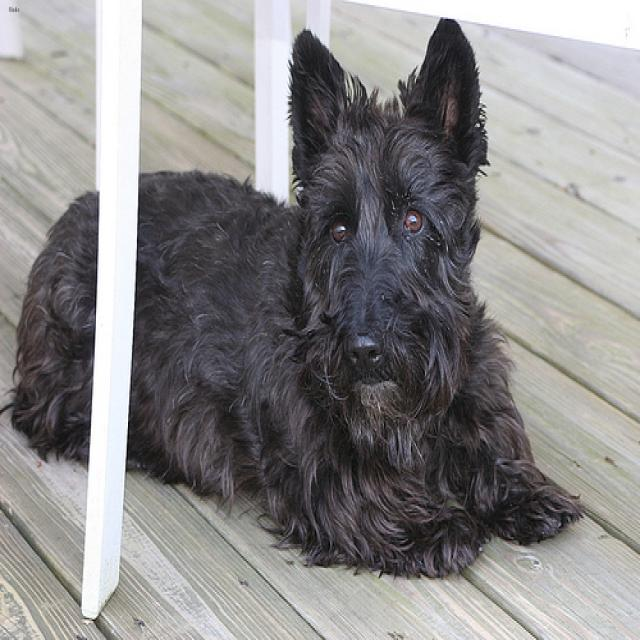dog-scottish_terrier: (118, 7, 595, 587)
